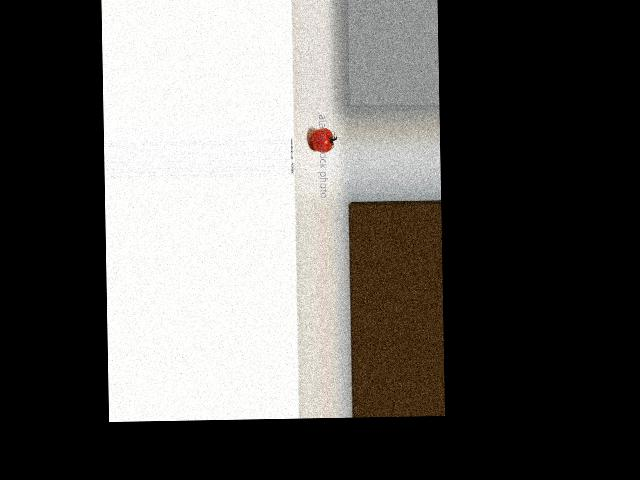tomato: (310, 128, 333, 153)
